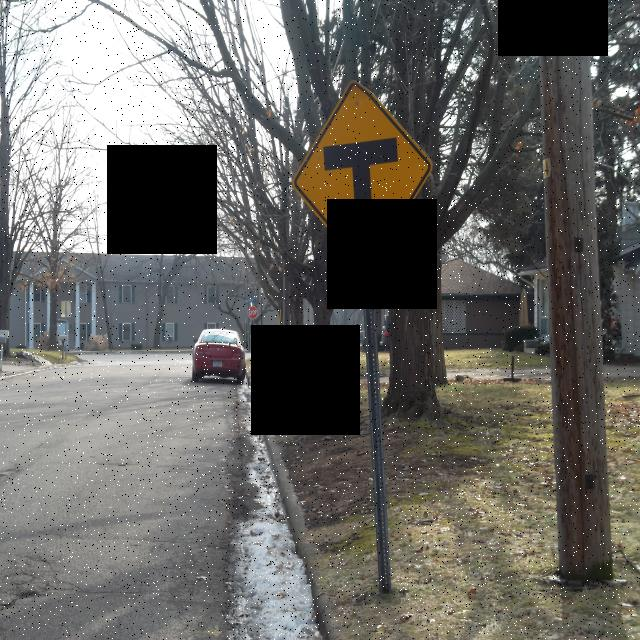warning: (290, 81, 432, 273)
